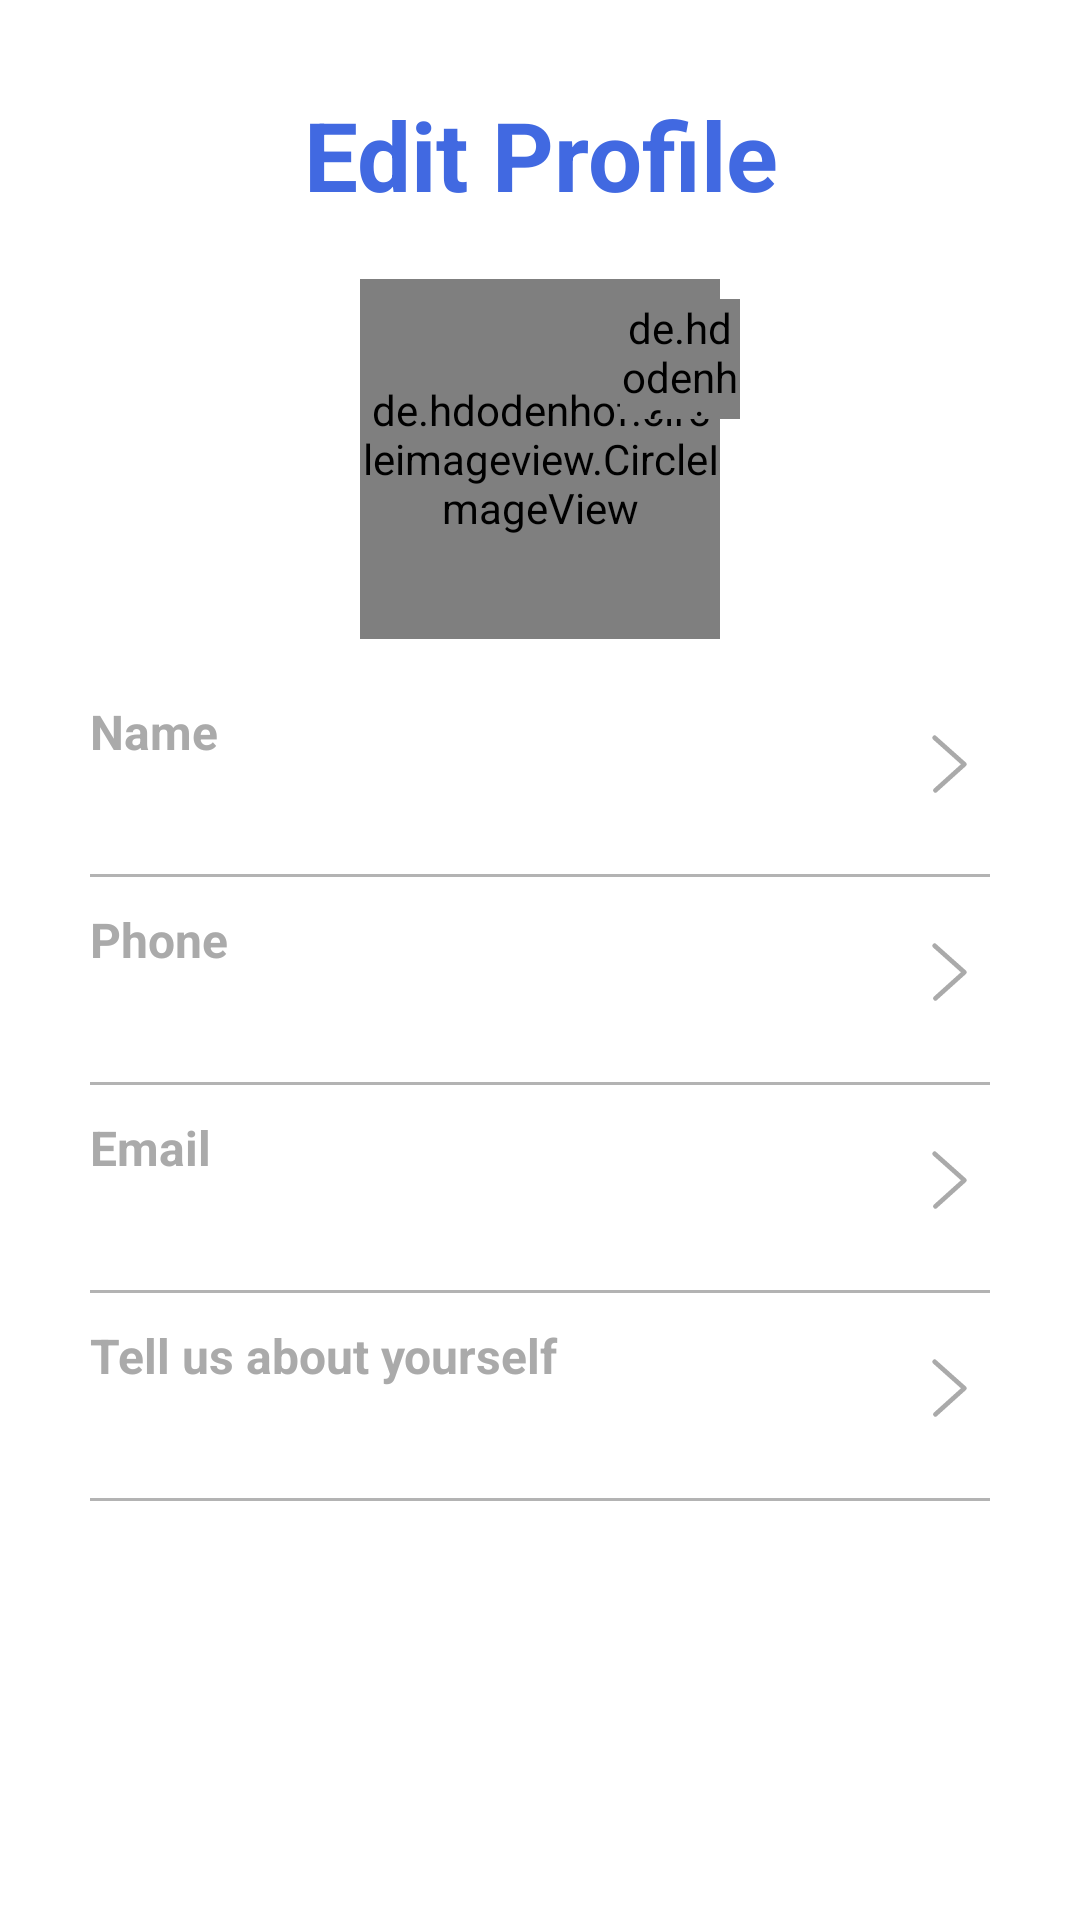

Icons on this 1080 × 1920 Android screen, each with its box as (x1, y1, x2, y2):
forward arrow: (932, 735, 967, 793), (932, 943, 967, 1001), (932, 1151, 967, 1209), (932, 1359, 967, 1417)
